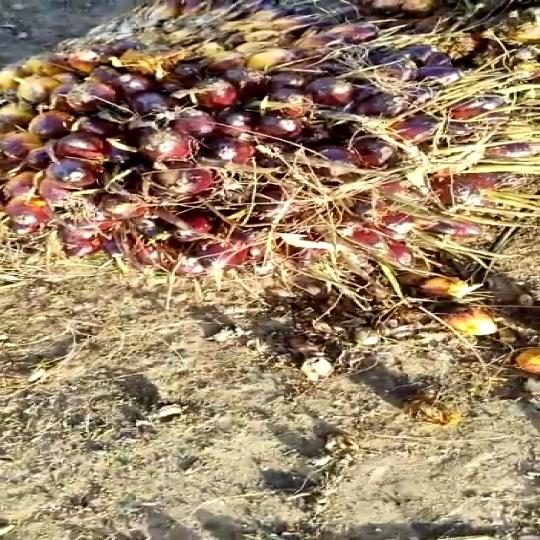mentah: (7, 0, 504, 274)
